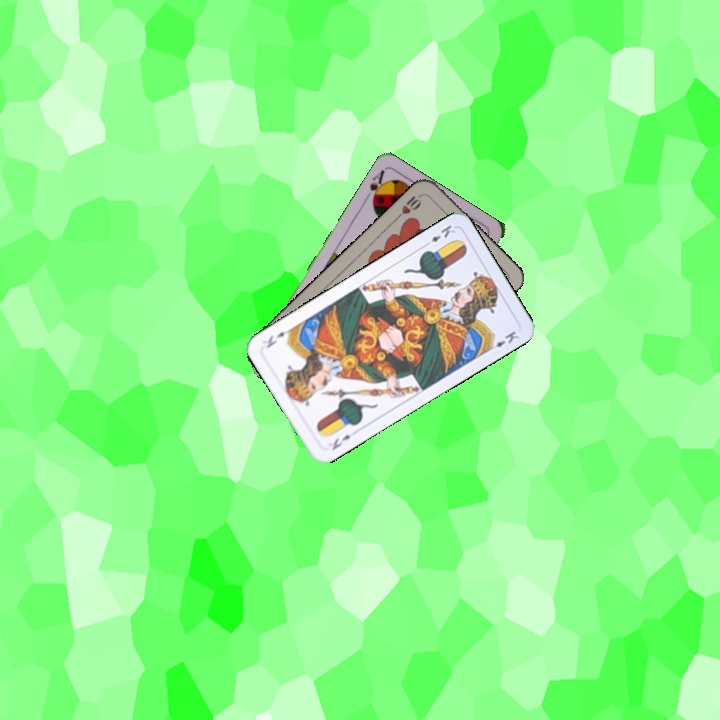EK: (419, 220, 458, 250), (328, 431, 353, 453)
H10: (393, 189, 426, 221)
SA: (360, 166, 389, 206)
